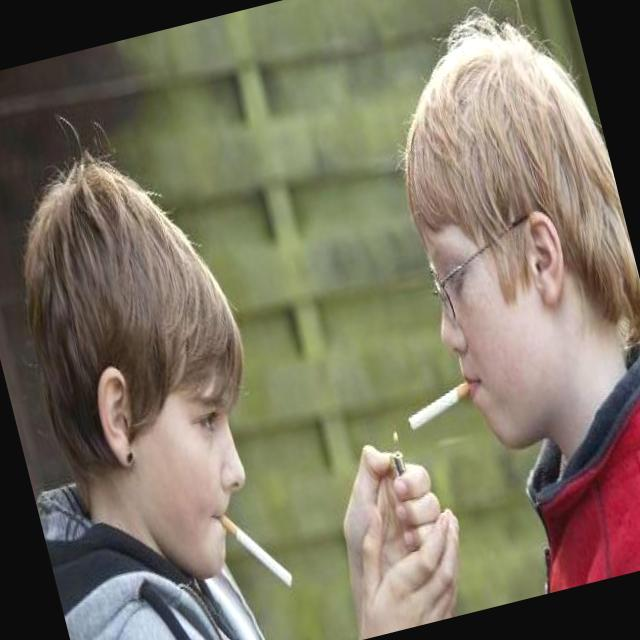cigarette: (214, 488, 303, 611), (374, 368, 496, 445)
